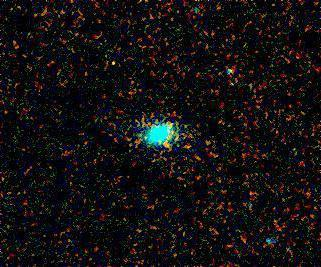star: (94, 47, 124, 77)
